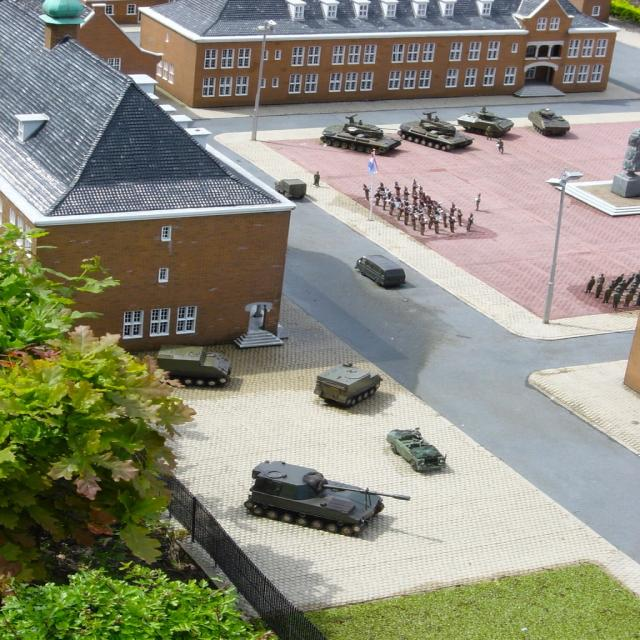tank: (245, 459, 407, 532), (320, 112, 400, 154), (400, 112, 472, 150), (454, 108, 514, 136), (528, 108, 570, 136)
